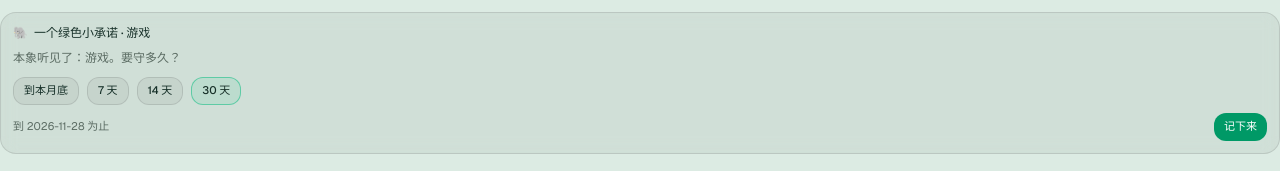
CommitmentCard 登记流 › fixed 意图预选显式天数; 确认只写一次 (防连点)
Click the button with test id "commitment-confirm". click: [1240, 126]
box: [1214,112,1267,140]
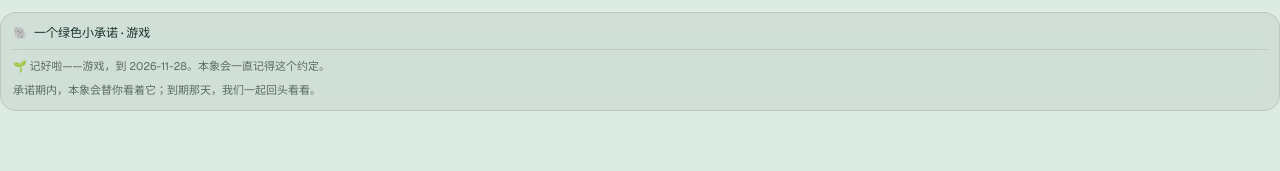
expect the button with test id "commitment-confirm" is gone: met
